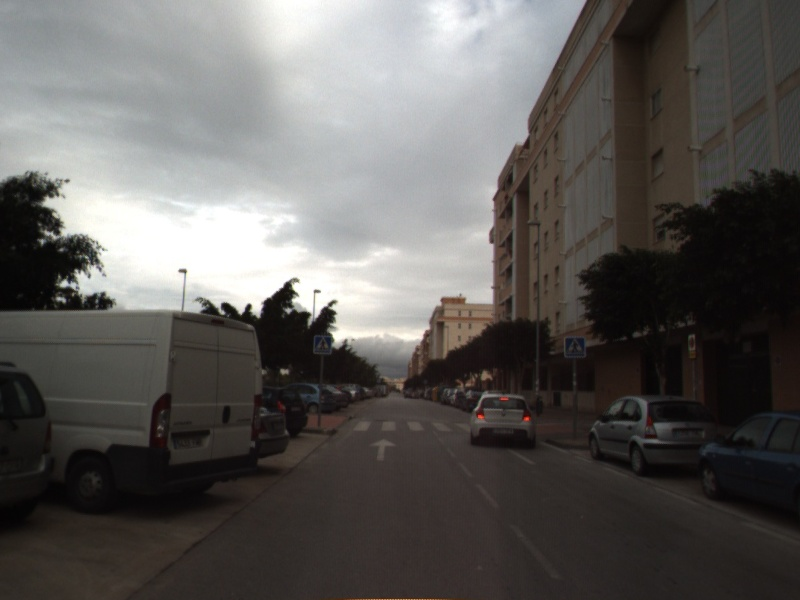STRAIGHT: (367, 436, 399, 463)
